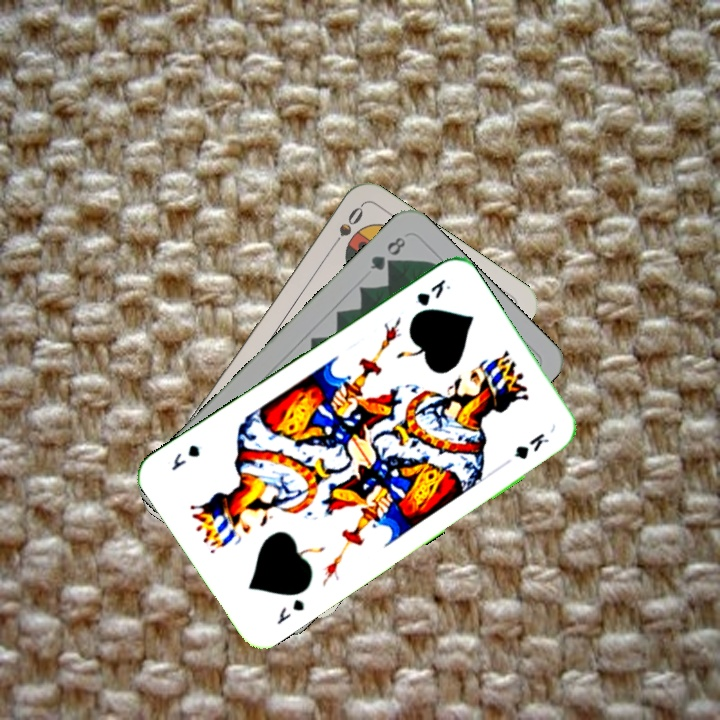G8: (365, 232, 409, 274)
GK: (410, 274, 454, 309), (273, 594, 307, 628)
SO: (325, 202, 366, 254)
